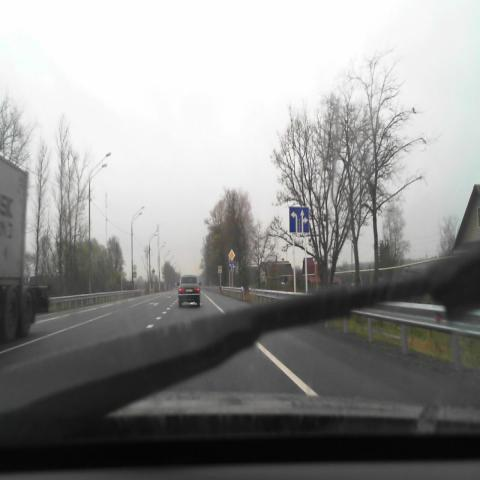5_15_2_2: (289, 207, 309, 233)
